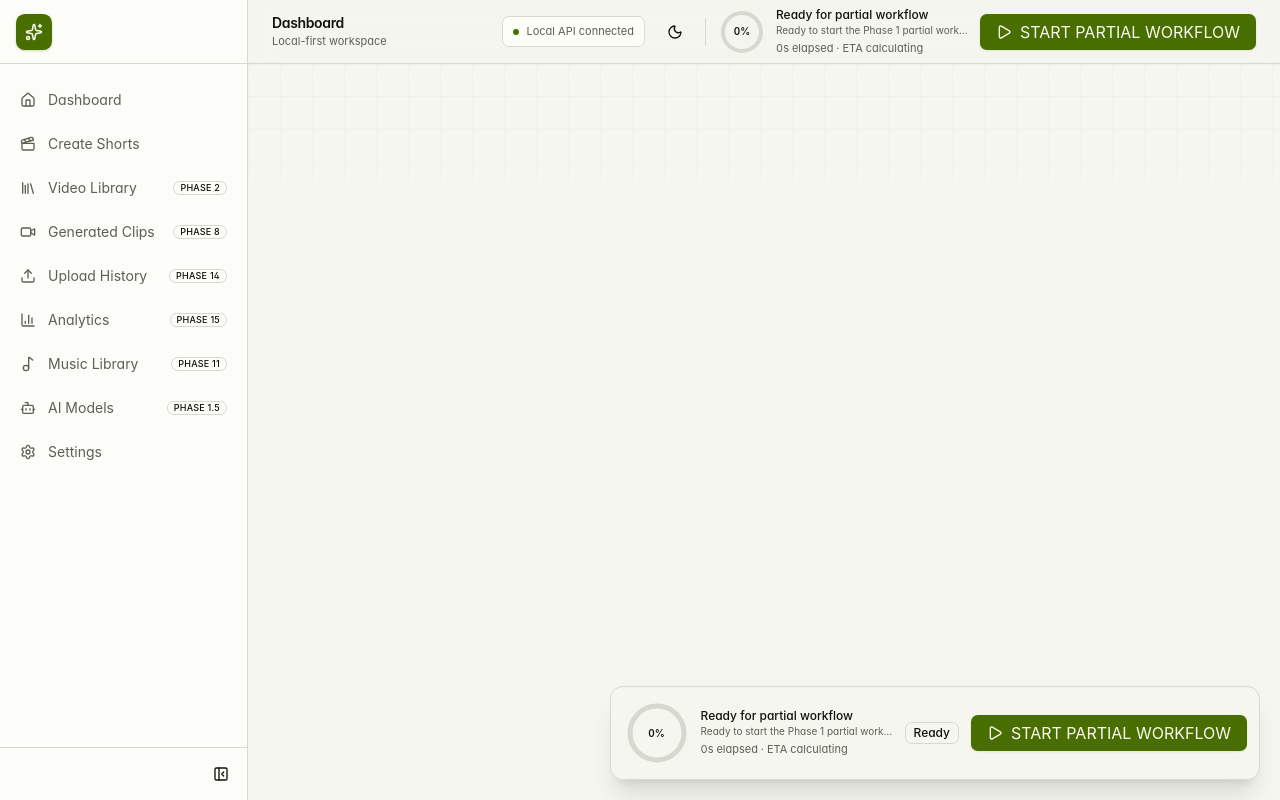
it: Phase 1.5 provider discovery and credential profiles › explains an empty catalog and retains manual fallback
Click the link "AI Models Phase 1.5" at (81,408), box x1=20 y1=399 x2=227 y2=416
(page scrolled)
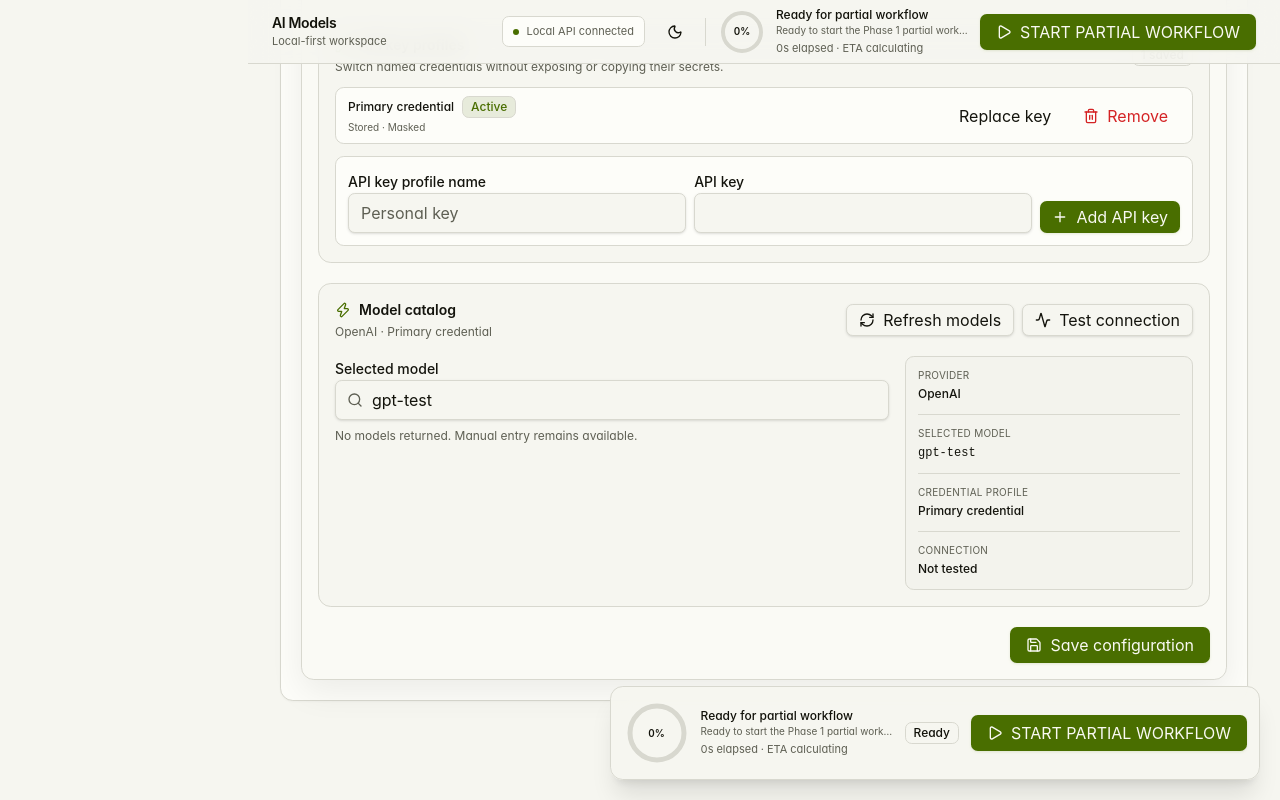
Check: the text "No models returned. Manual entry remains available." is shown, box x1=335 y1=428 x2=637 y2=443
Check: the dropdown labelled "Selected model" is enabled, box x1=335 y1=380 x2=889 y2=420
